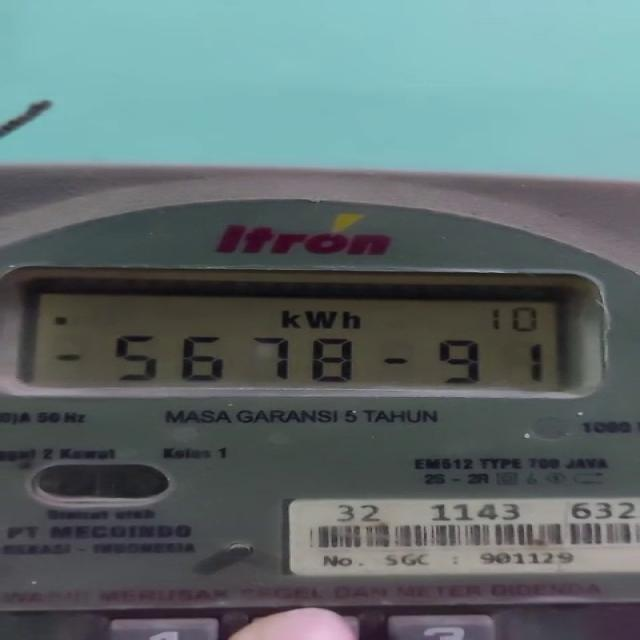LCD: (4, 253, 640, 413)
